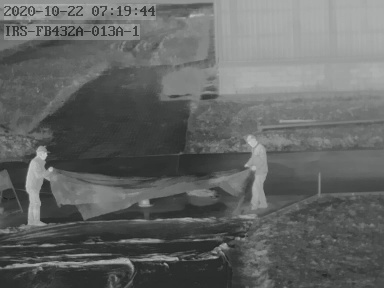person: (25, 145, 50, 223), (244, 135, 268, 207)
